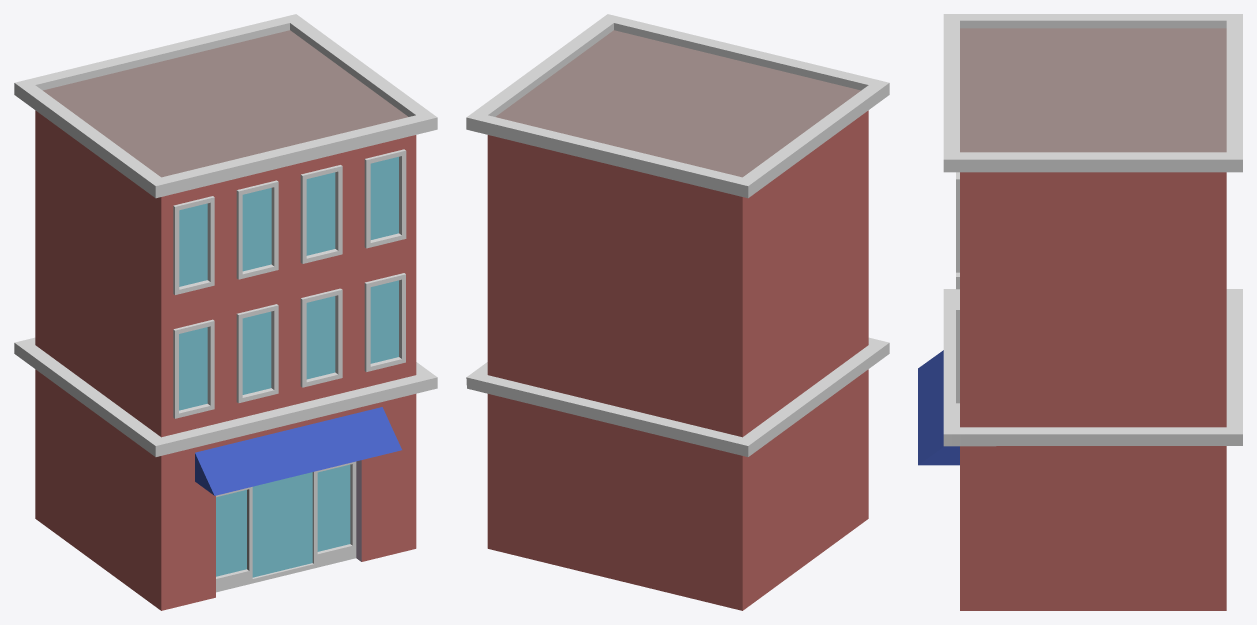
Rendered from Building2.fbx.
3 renders of one model, left to right at view 1: azimuth 30°, elevation 25°; view 2: azimuth 150°, elevation 25°; view 3: azimuth 270°, elevation 25°, orthographic. The views are drawn at different scales.
Visible parts, largest first — view 1: pCube4; view 2: pCube4; view 3: pCube4.
Boxes of the visible parts, box(x1,y1,x2,y2) form: pCube4: box(14, 14, 437, 610); pCube4: box(466, 14, 889, 610); pCube4: box(918, 14, 1242, 610).
Size of the model in its own units: 619 by 910 by 584.
